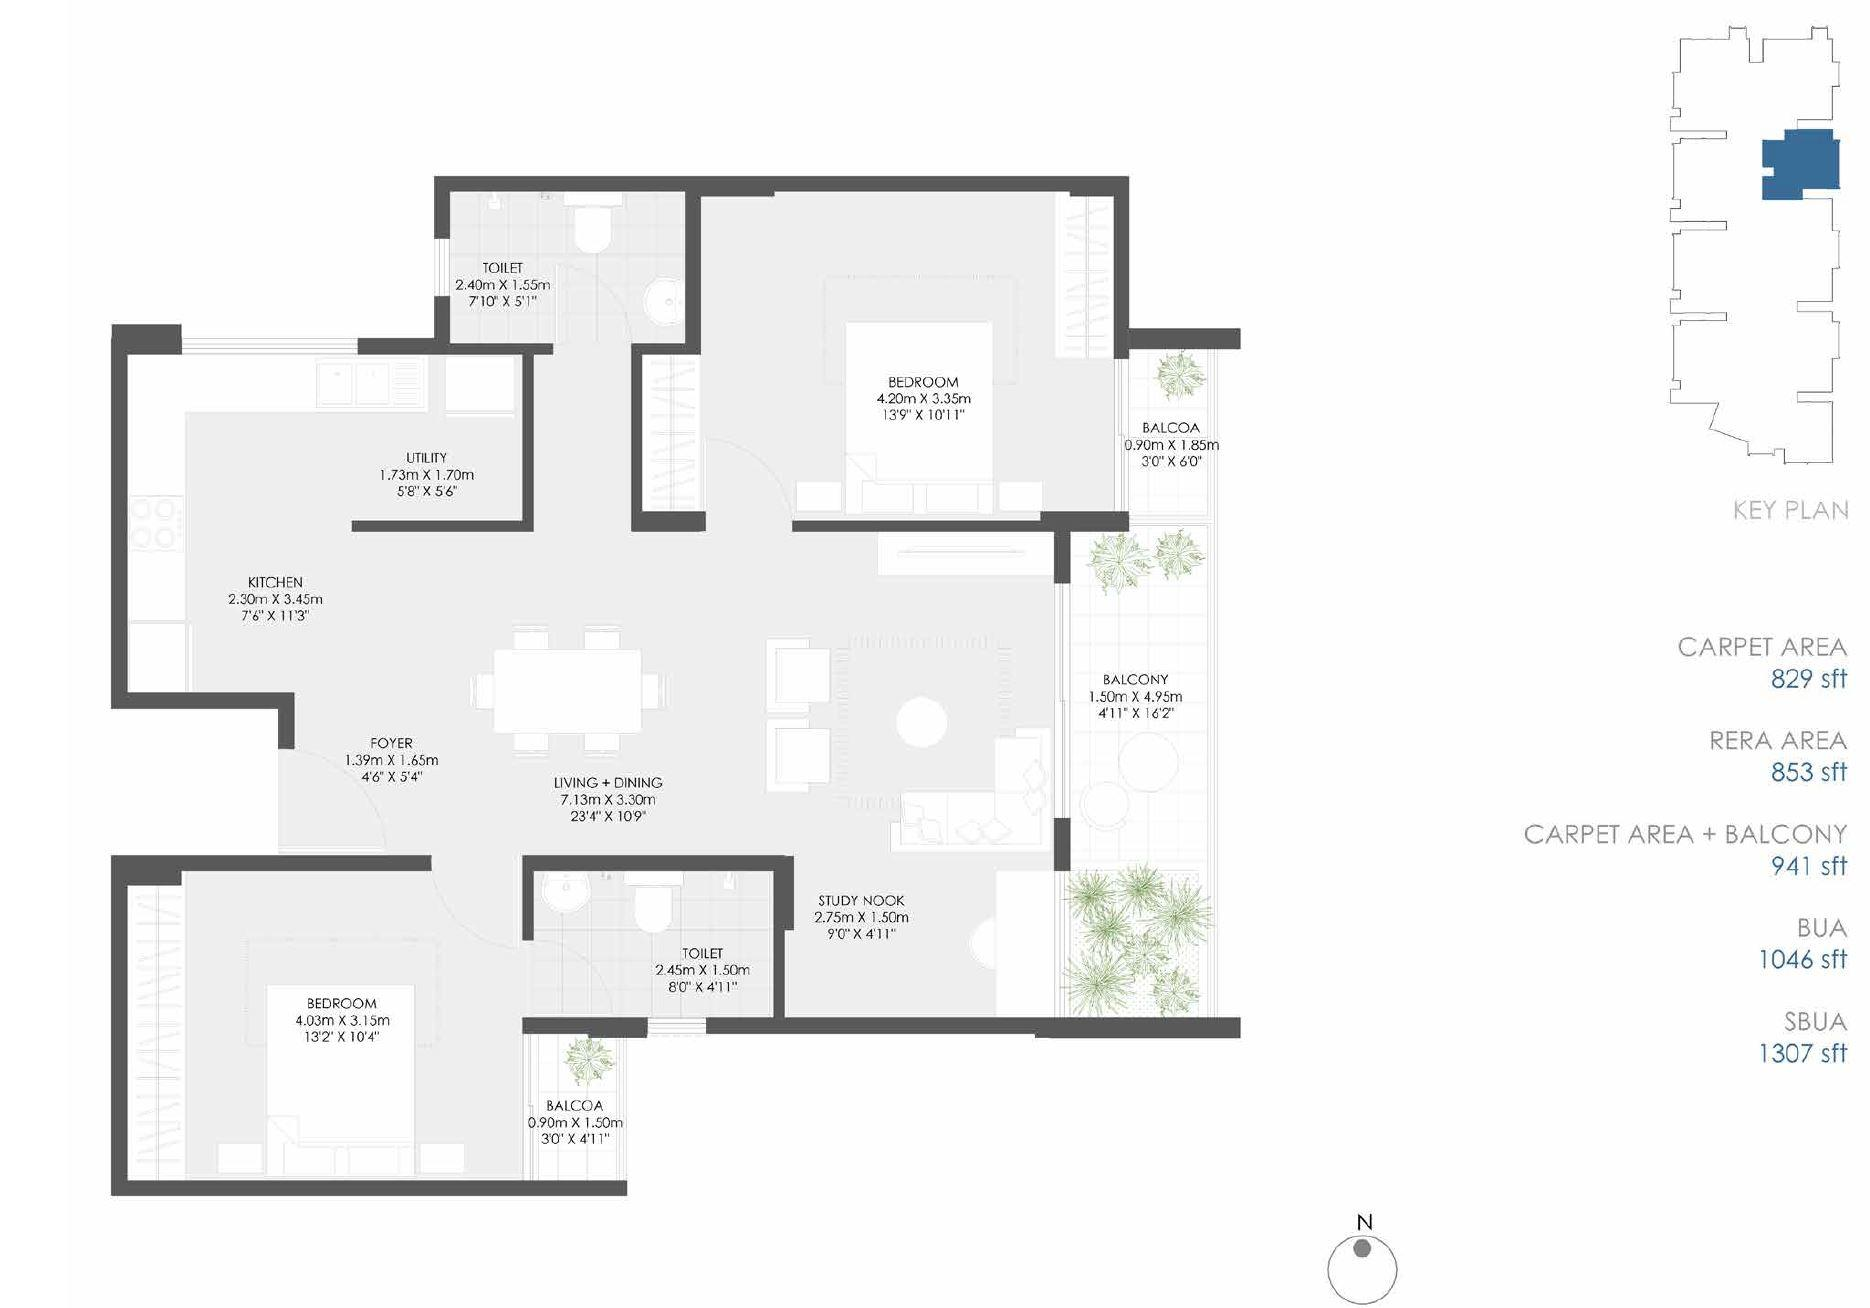Balcony: (1071, 527, 1206, 1019)
Bed: (844, 318, 990, 516), (264, 984, 412, 1174)
Bedroom: (703, 192, 1108, 519), (183, 872, 524, 1177)
Dining Room: (449, 532, 710, 847)
Dining table: (460, 616, 672, 762)
Foyer: (280, 728, 485, 852)
Kitchen: (124, 348, 352, 698)
Living Room: (712, 532, 1059, 854)
Sofa: (894, 795, 1046, 850), (990, 732, 1043, 849), (767, 634, 831, 719), (763, 719, 838, 790)
Wardrobe: (126, 884, 183, 1179), (642, 355, 703, 510), (1056, 196, 1113, 355)
balcoa: (1123, 348, 1214, 519), (527, 1034, 624, 1181)
commode: (629, 886, 678, 937), (570, 210, 614, 256)
door: (274, 739, 391, 849), (701, 431, 796, 530), (426, 860, 521, 955), (1049, 579, 1077, 825), (551, 264, 631, 345), (526, 941, 612, 1015), (516, 1035, 537, 1179)
fridge: (128, 624, 190, 695)
kitchen-slab: (129, 358, 189, 626), (129, 358, 426, 411)
sink: (314, 364, 419, 405), (544, 874, 595, 918), (645, 279, 686, 324)
study: (784, 862, 1056, 1017)
toilet: (531, 870, 777, 1019), (448, 192, 689, 343)
tv: (897, 539, 1032, 566)
utility: (340, 353, 523, 527)
washing-machine: (441, 354, 520, 417)
